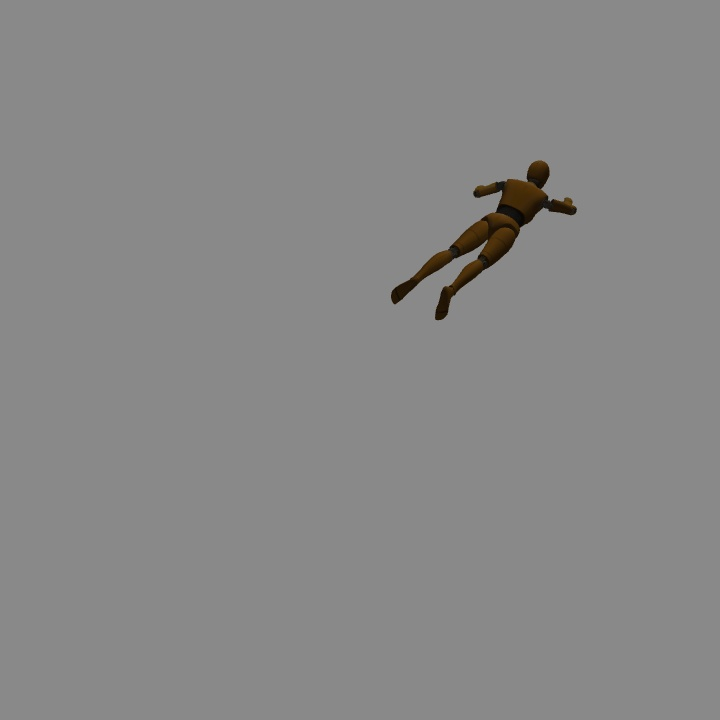victim: (393, 158, 575, 325)
